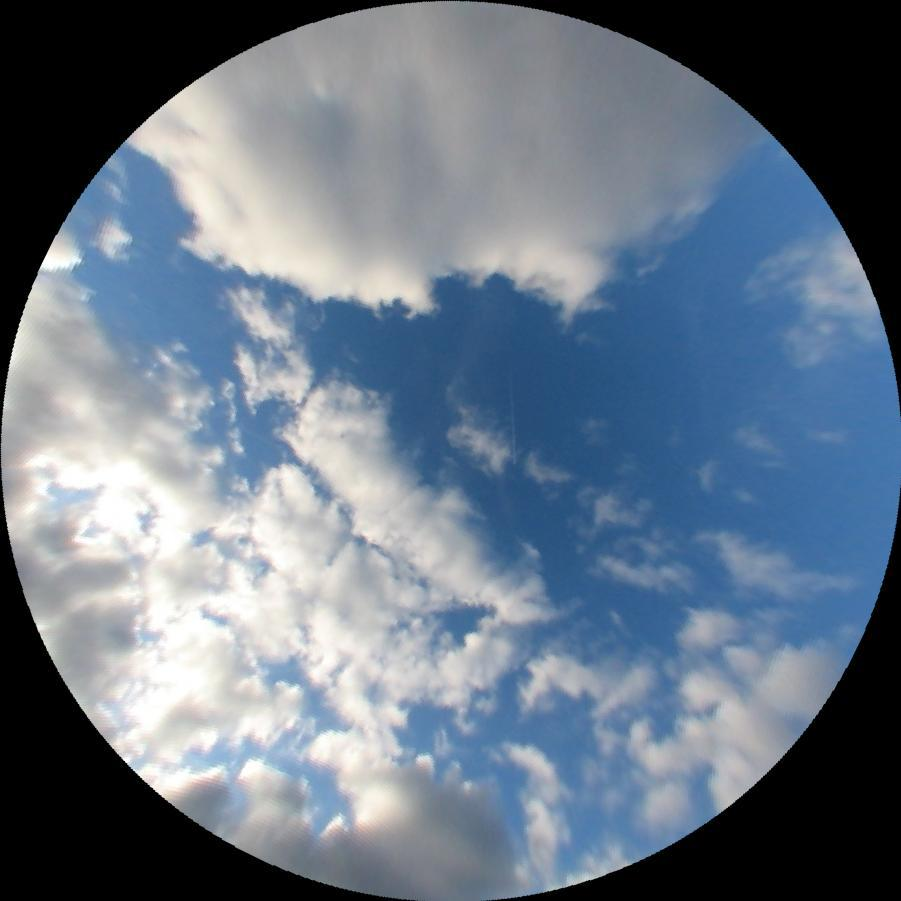contrail young: (507, 334, 515, 463)
